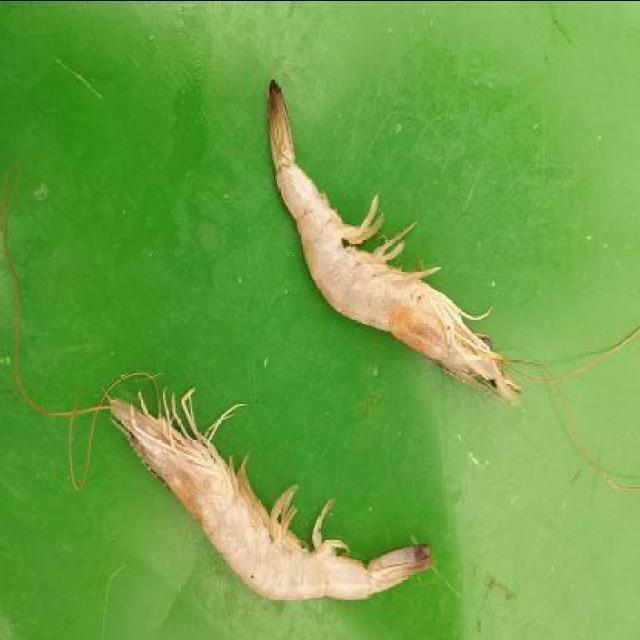shrimp: (255, 69, 519, 413), (89, 389, 436, 607)
